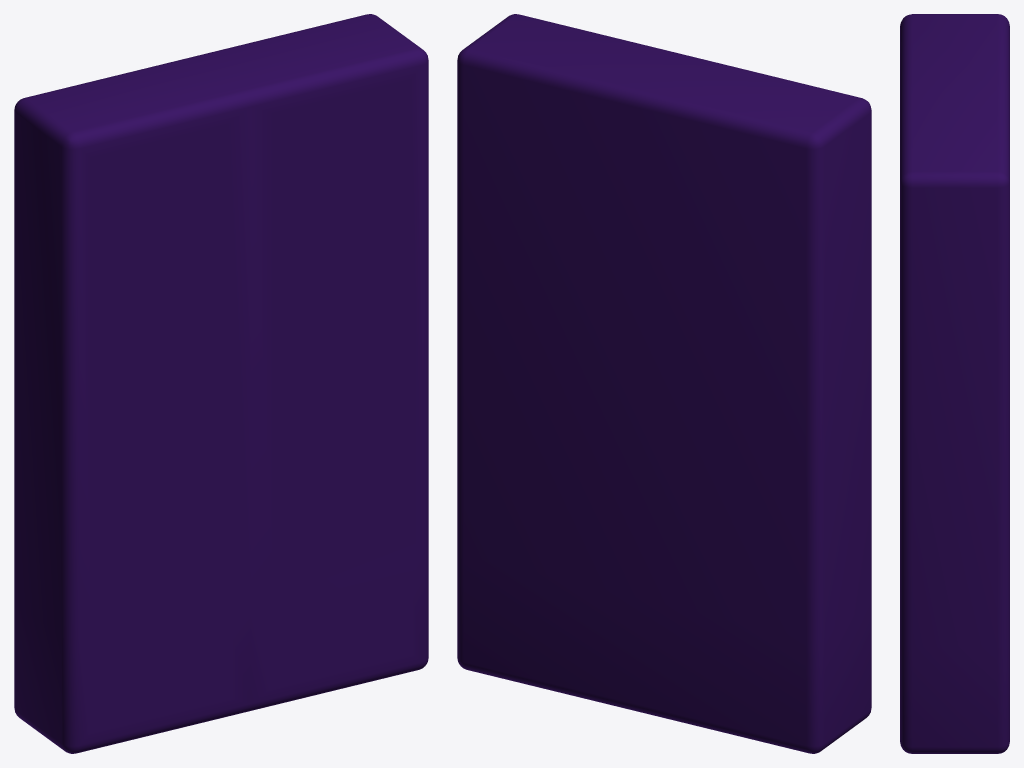
File: Armario.fbx
3 views of the same model, side by side, from view 1: azimuth 30°, elevation 25°; view 2: azimuth 150°, elevation 25°; view 3: azimuth 270°, elevation 25° (orthographic). The views are drawn at different scales.
Visible parts, largest first — view 1: Armario; view 2: Armario; view 3: Armario.
Part boxes in pixels (x1=…): Armario: x1=14, y1=14, x2=428, y2=753; Armario: x1=457, y1=14, x2=871, y2=753; Armario: x1=900, y1=14, x2=1009, y2=753.
Bounding box in the file's own units: 1.18 × 1.92 × 0.329.
